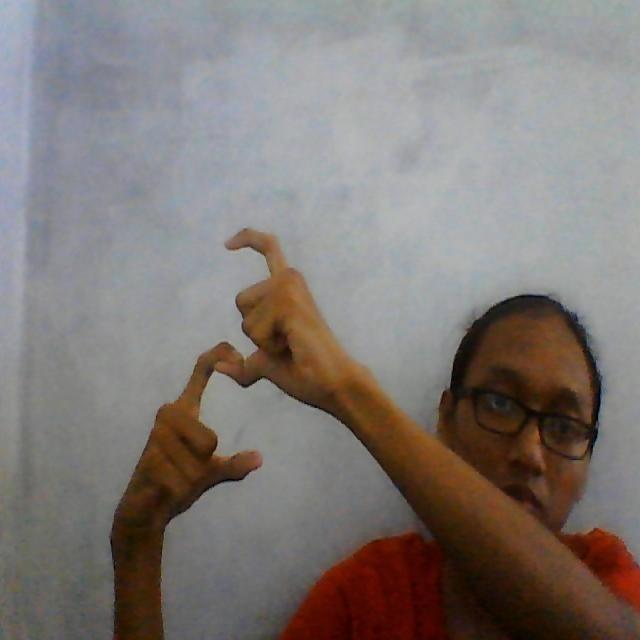S: (170, 211, 312, 500)
